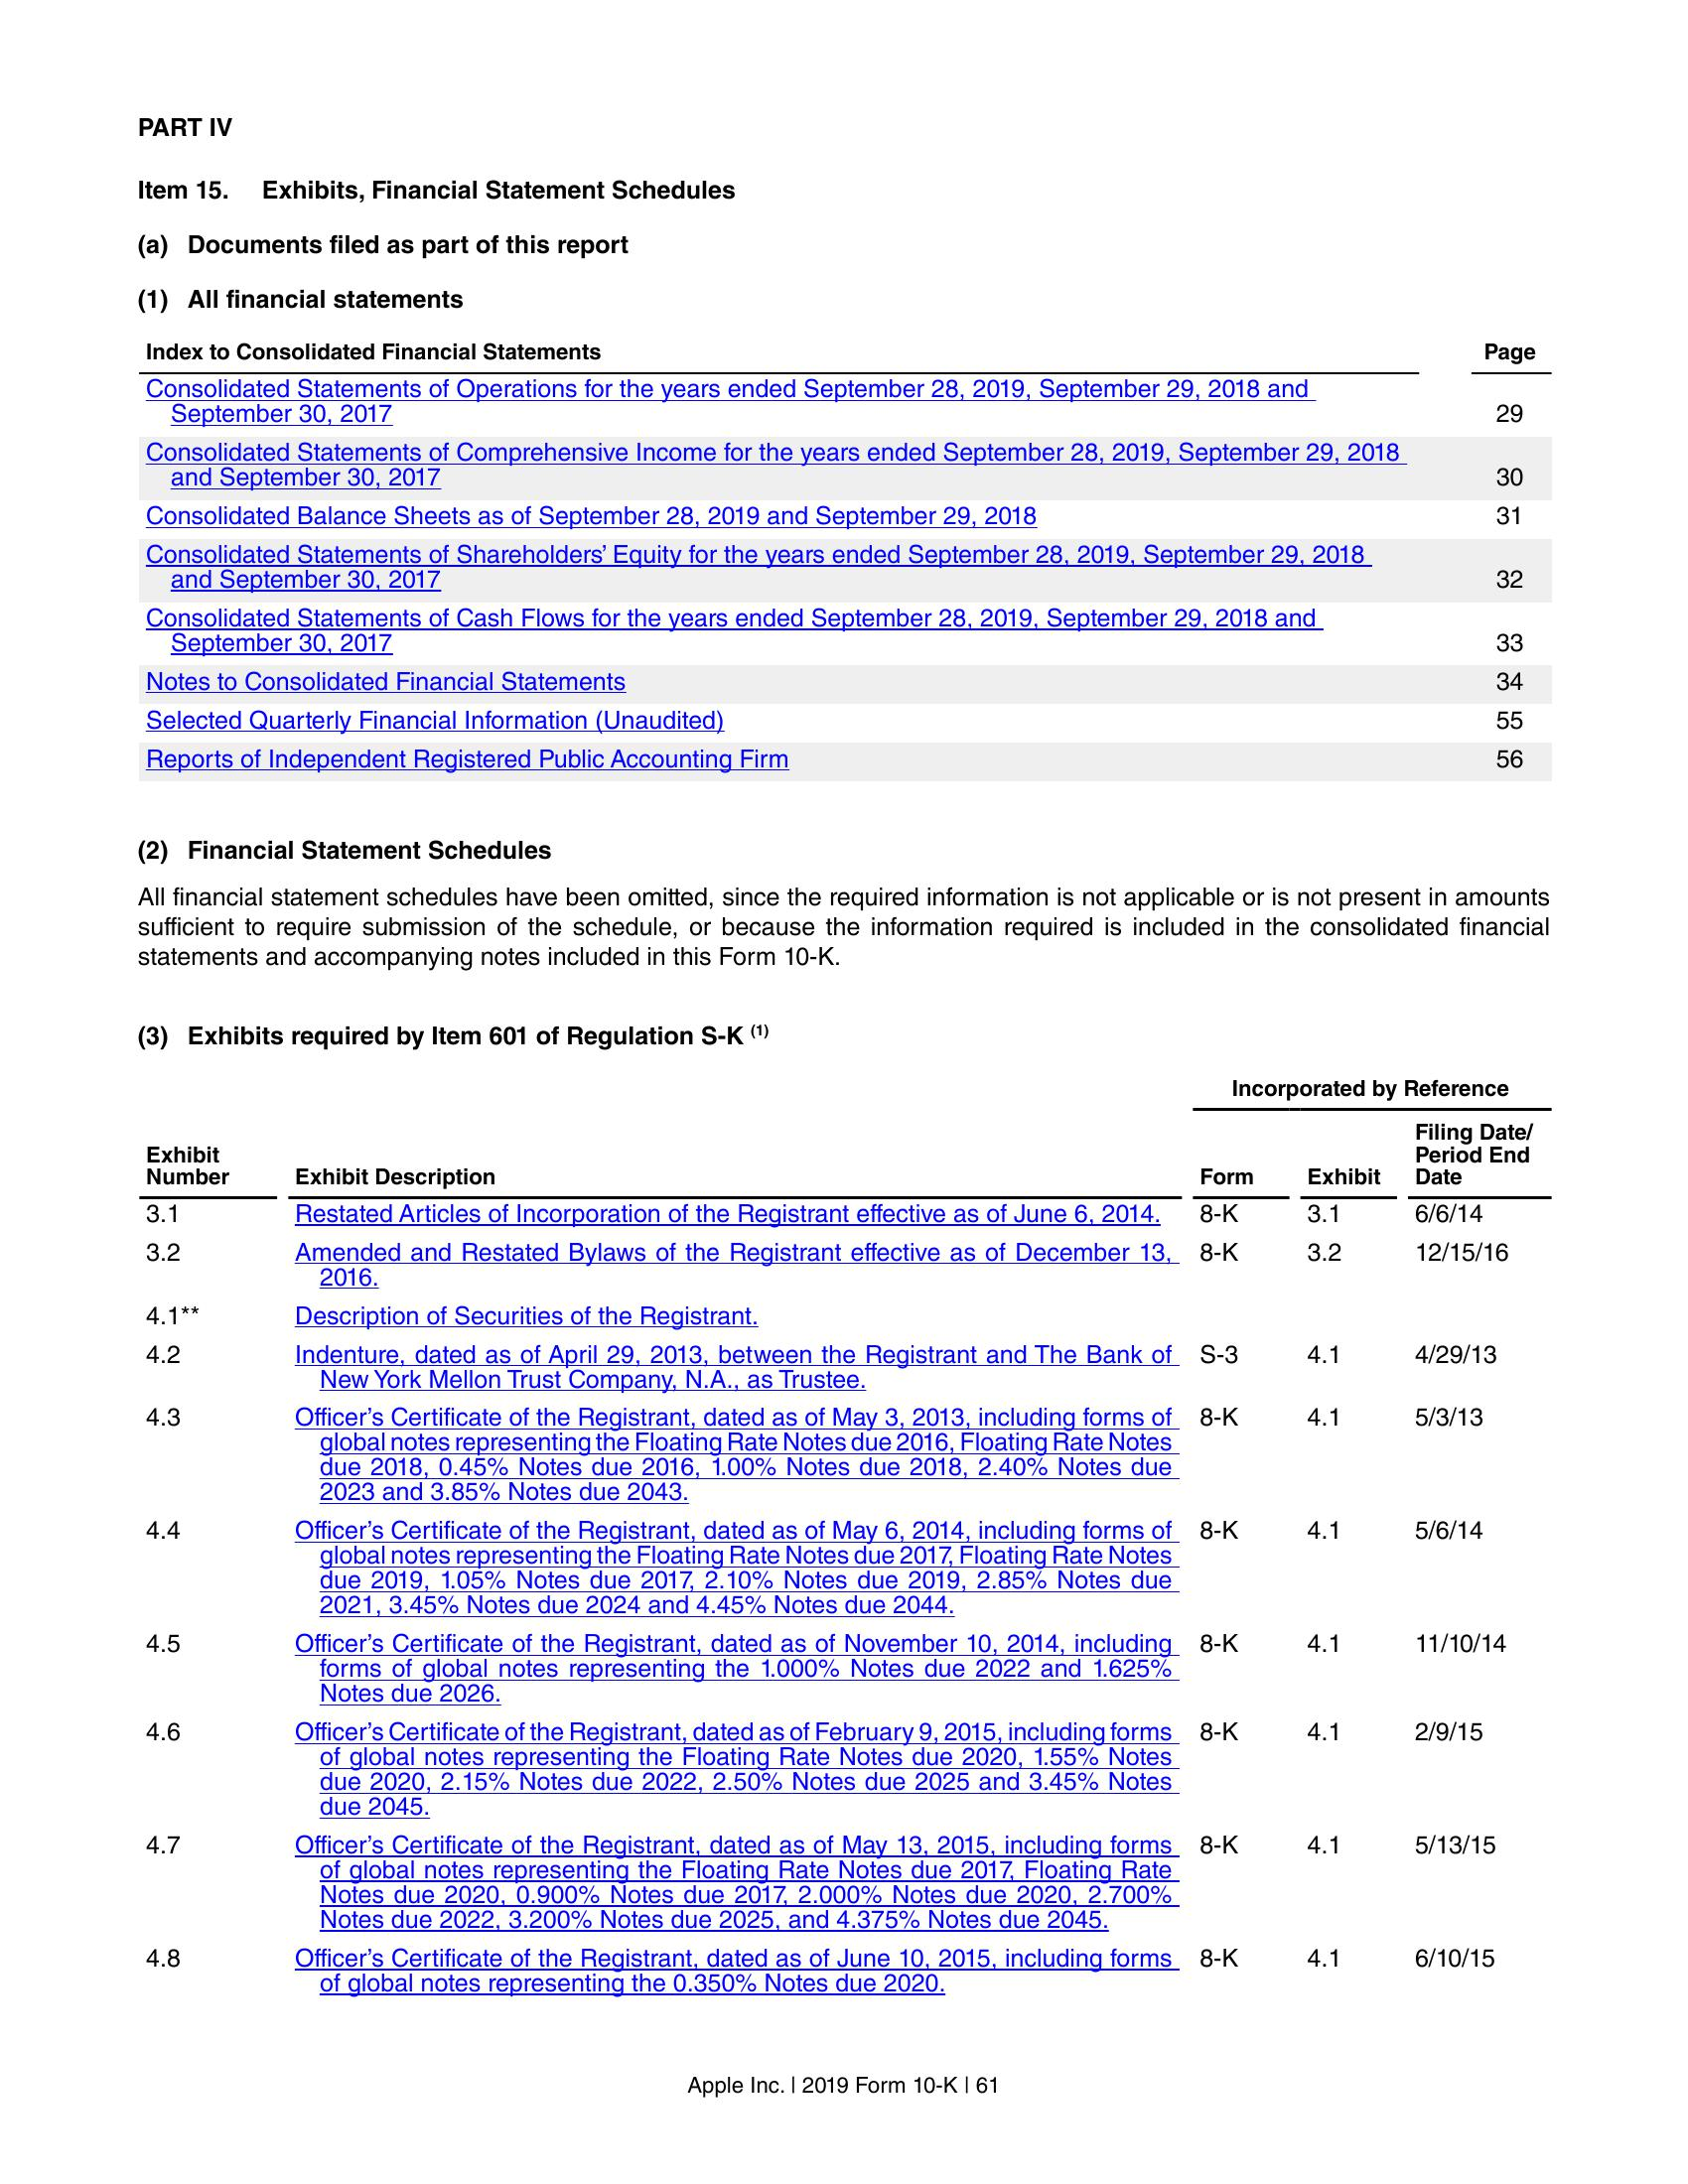table: (135, 1080, 1557, 2007), (142, 335, 1557, 782)
